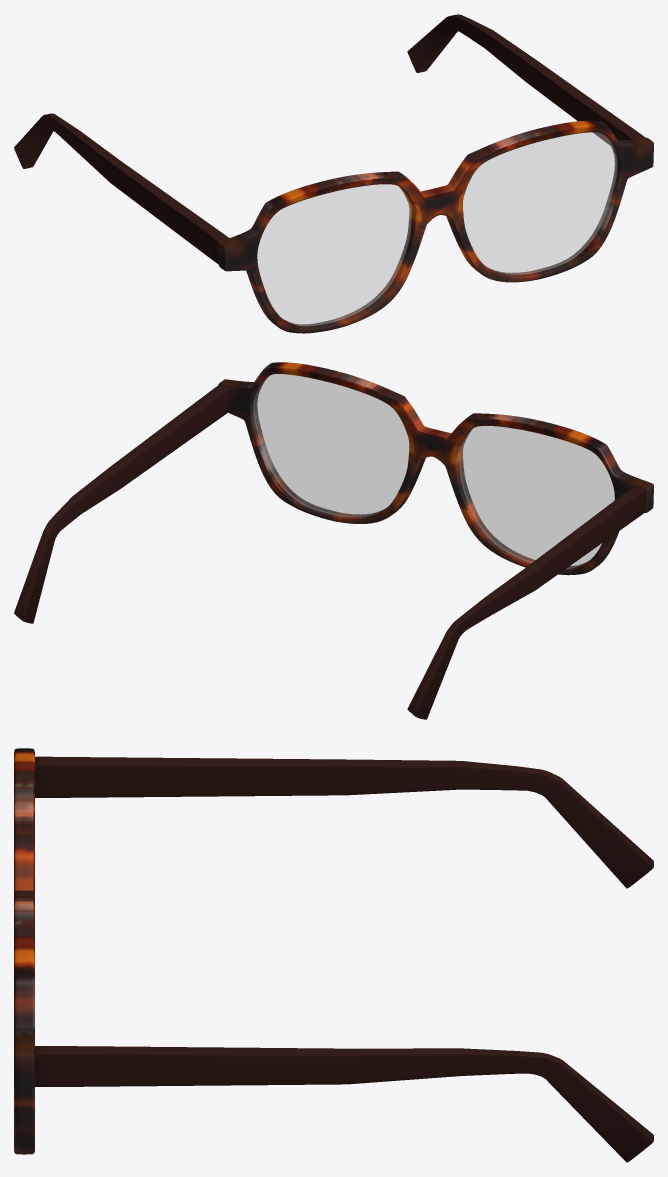
Rendered from variant-2.glb.
The picture shows the model from 3 angles, top to bottom: view 1: azimuth 30°, elevation 25°; view 2: azimuth 150°, elevation 25°; view 3: azimuth 270°, elevation 25°; orthographic projection. The views are drawn at different scales.
Parts seen in each view (by area): view 1: Plane.001, Plane; view 2: Plane.001, Plane; view 3: Plane.
Boxes of the visible parts, box(x1,y1,x2,y2) form: Plane.001: box(257, 132, 617, 325); Plane: box(14, 14, 653, 333); Plane.001: box(253, 374, 614, 568); Plane: box(14, 362, 653, 719); Plane: box(14, 748, 653, 1162).
Size of the model in its own units: 2.19 by 0.7067 by 1.97.
Materials: 4 (1 with a texture image).
